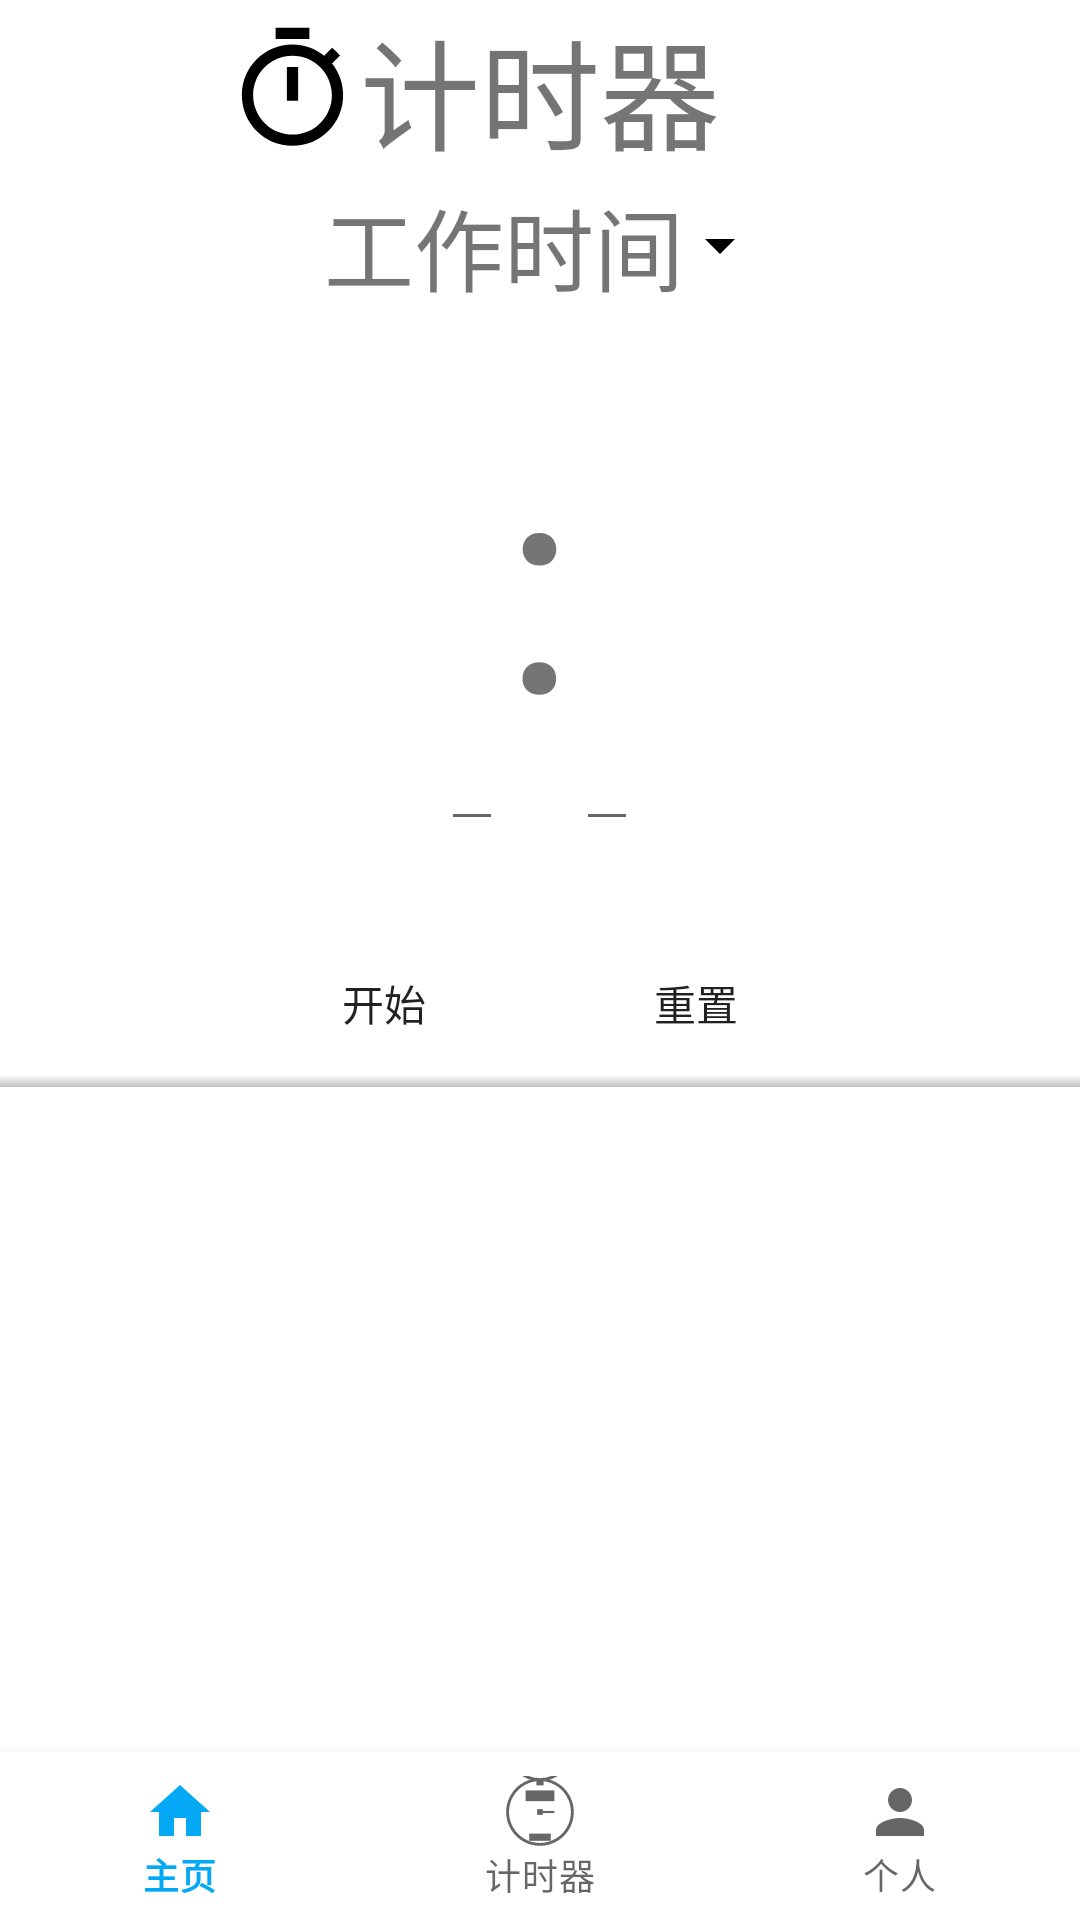

Where to tap for icons on this 1080x1920 app screen, as point (x, y):
timericon: point (292, 86)
triangle down: point (720, 246)
